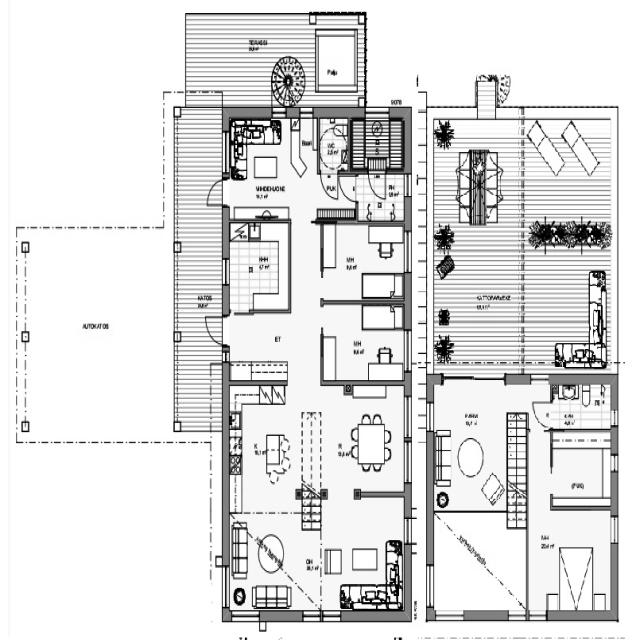door: (200, 310, 227, 352), (365, 168, 390, 206), (339, 170, 358, 207), (534, 396, 553, 430), (206, 176, 223, 208), (321, 172, 339, 198)
window: (401, 388, 417, 486), (427, 602, 470, 626), (298, 606, 343, 626), (608, 404, 620, 476), (422, 550, 435, 612), (217, 562, 232, 613), (399, 328, 414, 377), (228, 604, 264, 624), (401, 227, 413, 280), (501, 608, 529, 628), (269, 104, 294, 125), (398, 512, 414, 544), (294, 102, 316, 124), (424, 394, 436, 434), (402, 170, 415, 204), (612, 508, 621, 554)
zone: (224, 376, 406, 617), (430, 372, 528, 518), (428, 506, 528, 618), (224, 107, 320, 220), (321, 300, 411, 380), (323, 222, 409, 304), (228, 216, 291, 312), (550, 432, 614, 512), (350, 110, 408, 170), (354, 170, 411, 223), (318, 110, 347, 170)
